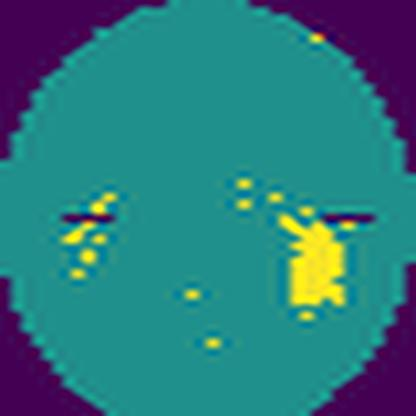Loc: (275, 208, 348, 309)
